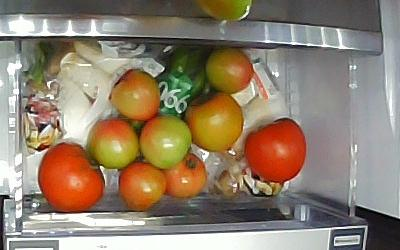tomato: (38, 143, 105, 212), (245, 118, 307, 183), (186, 92, 244, 153), (140, 116, 193, 170), (109, 68, 160, 122), (88, 120, 139, 171), (117, 162, 165, 211), (205, 48, 253, 94), (165, 153, 207, 199)
